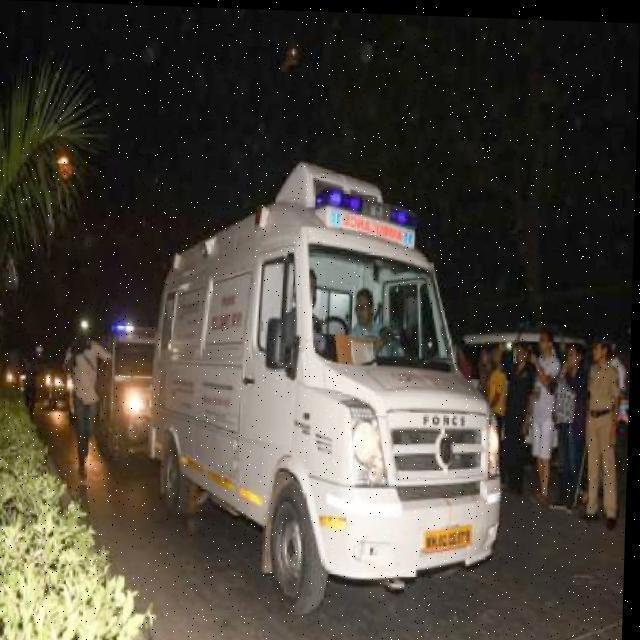Ambulance: (141, 153, 516, 622), (16, 384, 629, 640), (96, 318, 162, 464), (343, 281, 409, 361)
